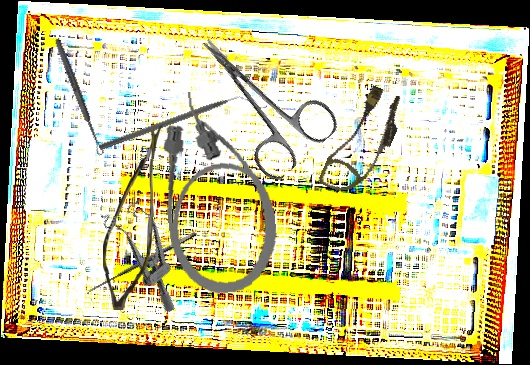Cannula: (152, 83, 284, 299), (317, 80, 410, 203)
Chopper: (98, 90, 253, 159)
Hook Surgical: (84, 229, 202, 303)
Iris Scissors: (173, 9, 344, 185)
Micro Scissor: (101, 122, 163, 311)
Speculum: (91, 189, 208, 315)
Surgical Spoon: (53, 37, 105, 157)
